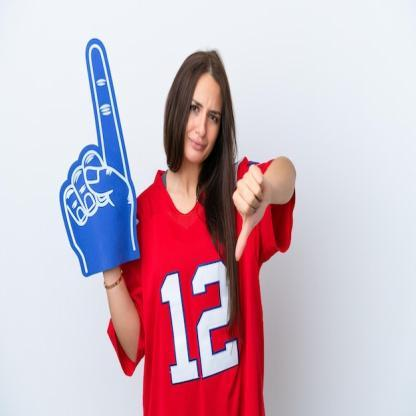thumb_down: (230, 162, 272, 262)
